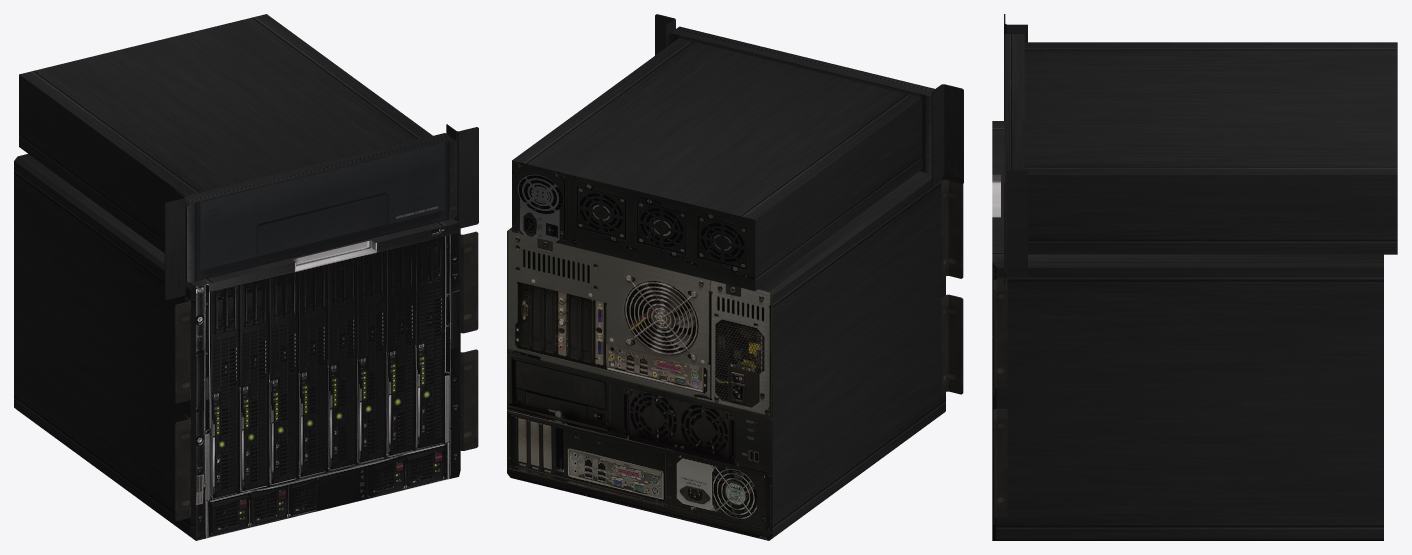
File: servers-4.FBX
The picture shows the model from 3 angles, left to right: view 1: azimuth 30°, elevation 25°; view 2: azimuth 150°, elevation 25°; view 3: azimuth 270°, elevation 25°; orthographic projection. The views are drawn at different scales.
Parts seen in each view (by area): view 1: Object03, Object004; view 2: Object03, Object004; view 3: Object03, Object004.
Boxes of the visible parts, x1,y1,x2,y2 form: Object03: [14, 154, 478, 540]; Object004: [19, 14, 478, 300]; Object03: [507, 171, 963, 540]; Object004: [512, 14, 963, 290]; Object03: [992, 121, 1383, 540]; Object004: [1004, 14, 1397, 286].
Size of the model in its own units: 31.94 by 33.05 by 32.57.
